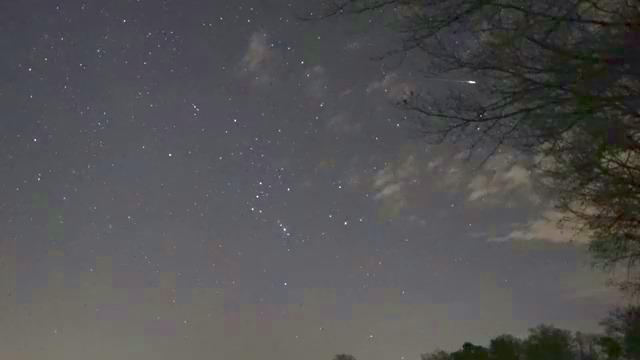meteorite: (389, 69, 490, 89)
